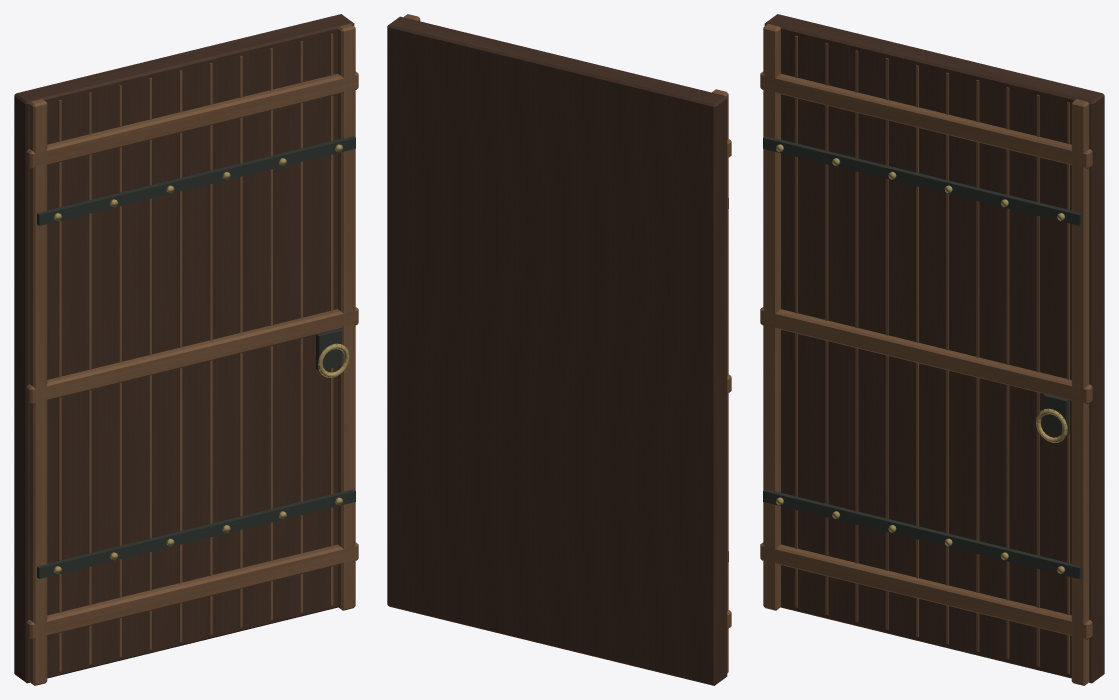
File: grand_door_leaf.glb
The picture shows the model from 3 angles, left to right: view 1: azimuth 30°, elevation 25°; view 2: azimuth 150°, elevation 25°; view 3: azimuth 330°, elevation 25°; orthographic projection.
Visible parts, largest first — view 1: Hall_Timber, Hall_CarvedWood, Hall_Iron, Hall_Bronze; view 2: Hall_Timber, Hall_CarvedWood; view 3: Hall_Timber, Hall_CarvedWood, Hall_Iron, Hall_Bronze.
Boxes of the visible parts, x1,y1,x2,y2 form: Hall_Timber: (14, 14, 354, 683); Hall_CarvedWood: (26, 24, 358, 685); Hall_Iron: (37, 136, 355, 578); Hall_Bronze: (54, 144, 349, 573); Hall_Timber: (387, 16, 727, 685); Hall_CarvedWood: (404, 14, 731, 672); Hall_Timber: (764, 14, 1104, 683); Hall_CarvedWood: (760, 24, 1092, 685); Hall_Iron: (763, 136, 1081, 578); Hall_Bronze: (776, 144, 1067, 573).
Size of the model in its own units: 3.16 by 5.34 by 0.404.
4 materials, 2 textured.
